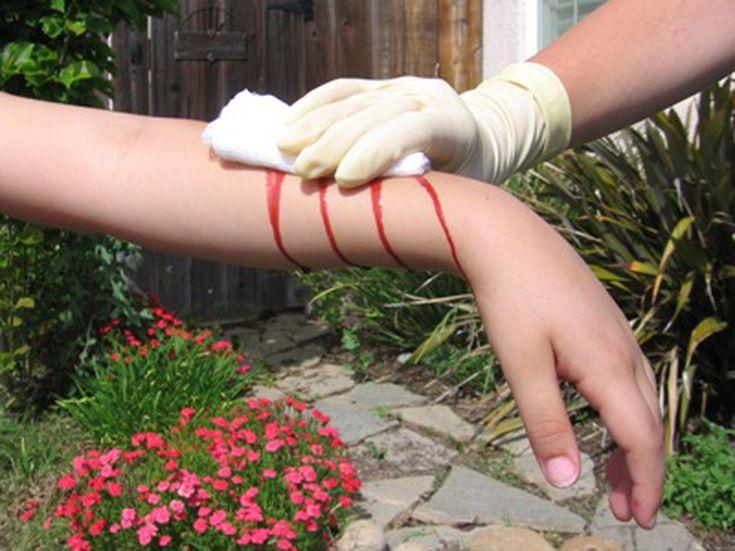gauze: (199, 85, 433, 180)
